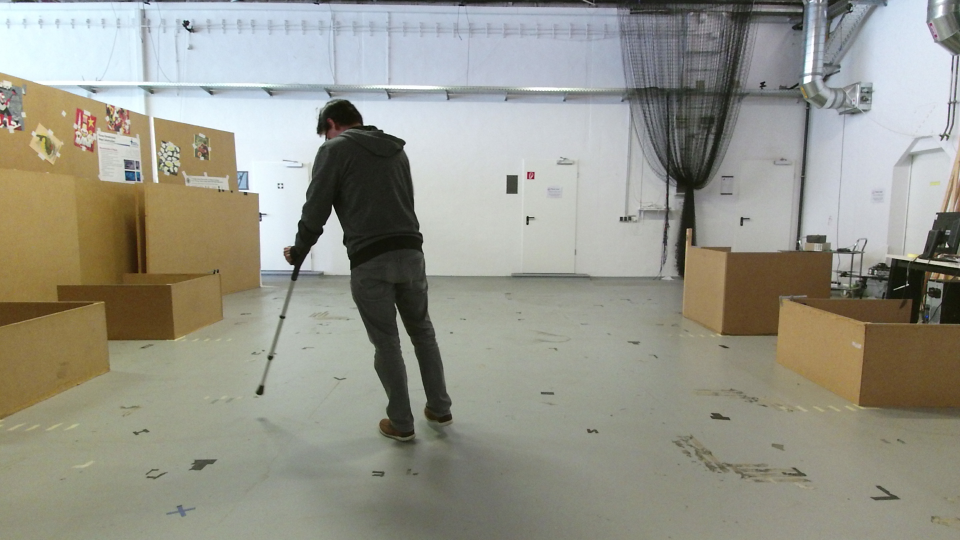crutches: (246, 91, 458, 445)
